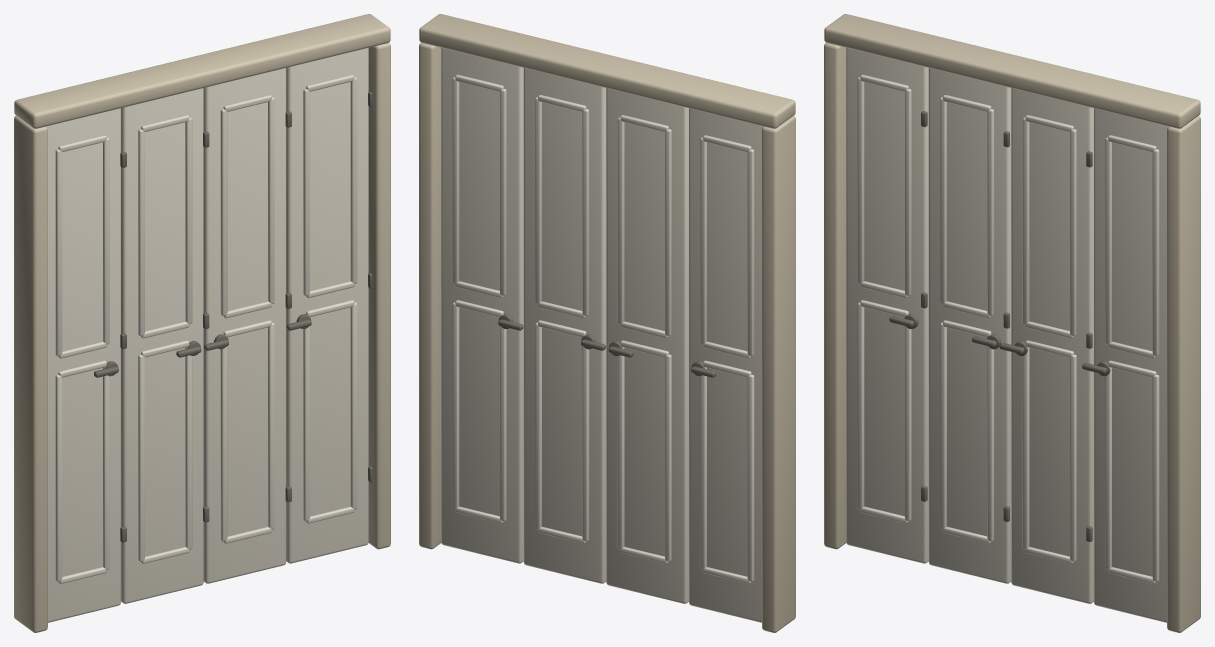
File: door-bifold.glb
3 renders of one model, left to right at view 1: azimuth 30°, elevation 25°; view 2: azimuth 150°, elevation 25°; view 3: azimuth 330°, elevation 25°, orthographic.
Parts seen in each view (by area): view 1: catalog_surface_UVMap, catalog_surface_RealismUV; view 2: catalog_surface_UVMap, catalog_surface_RealismUV; view 3: catalog_surface_UVMap, catalog_surface_RealismUV.
Boxes of the visible parts, <box> form: catalog_surface_UVMap: <box>46,48,368,622</box>; catalog_surface_RealismUV: <box>14,14,390,632</box>; catalog_surface_UVMap: <box>441,48,763,622</box>; catalog_surface_RealismUV: <box>419,14,795,632</box>; catalog_surface_UVMap: <box>846,48,1168,622</box>; catalog_surface_RealismUV: <box>824,14,1200,632</box>.
Bounding box in the file's own units: 1.55 × 2.15 × 0.16.
